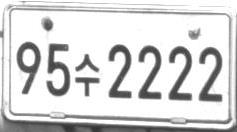2: (167, 45, 193, 101), (107, 43, 132, 98), (136, 44, 161, 99), (198, 46, 222, 101)
5: (45, 43, 71, 96)
9: (15, 41, 41, 95)
수: (75, 54, 100, 97)
